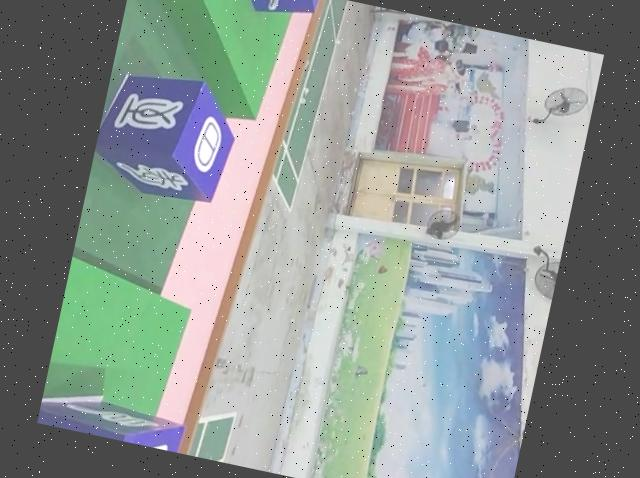R1 Blue: (218, 0, 321, 26)
R2 Fake Blue: (89, 61, 244, 207), (37, 386, 189, 454)
